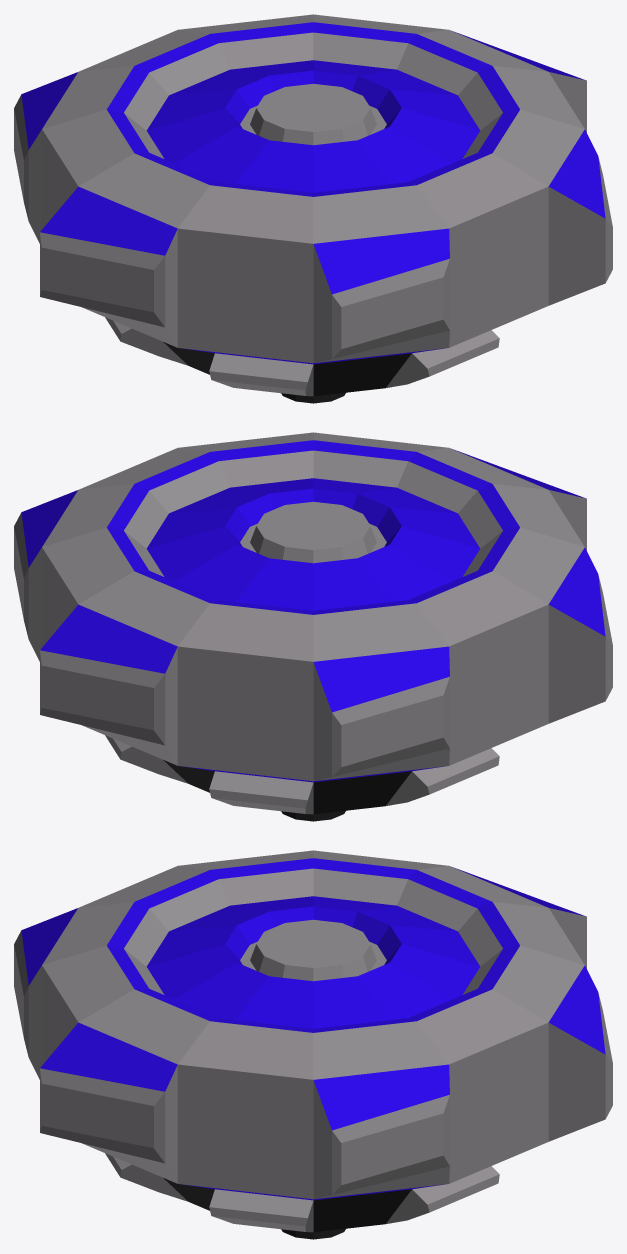
File: SpinnerModel.fbx
3 renders of one model, top to bottom at view 1: azimuth 30°, elevation 25°; view 2: azimuth 150°, elevation 25°; view 3: azimuth 270°, elevation 25°, orthographic.
Parts seen in each view (by area): view 1: SpinnerMesh; view 2: SpinnerMesh; view 3: SpinnerMesh.
Boxes of the visible parts, x1,y1,x2,y2 form: SpinnerMesh: [14, 14, 612, 403]; SpinnerMesh: [14, 432, 612, 821]; SpinnerMesh: [14, 850, 612, 1239].
Bounding box in the file's own units: 22.21 × 10.64 × 20.17.
